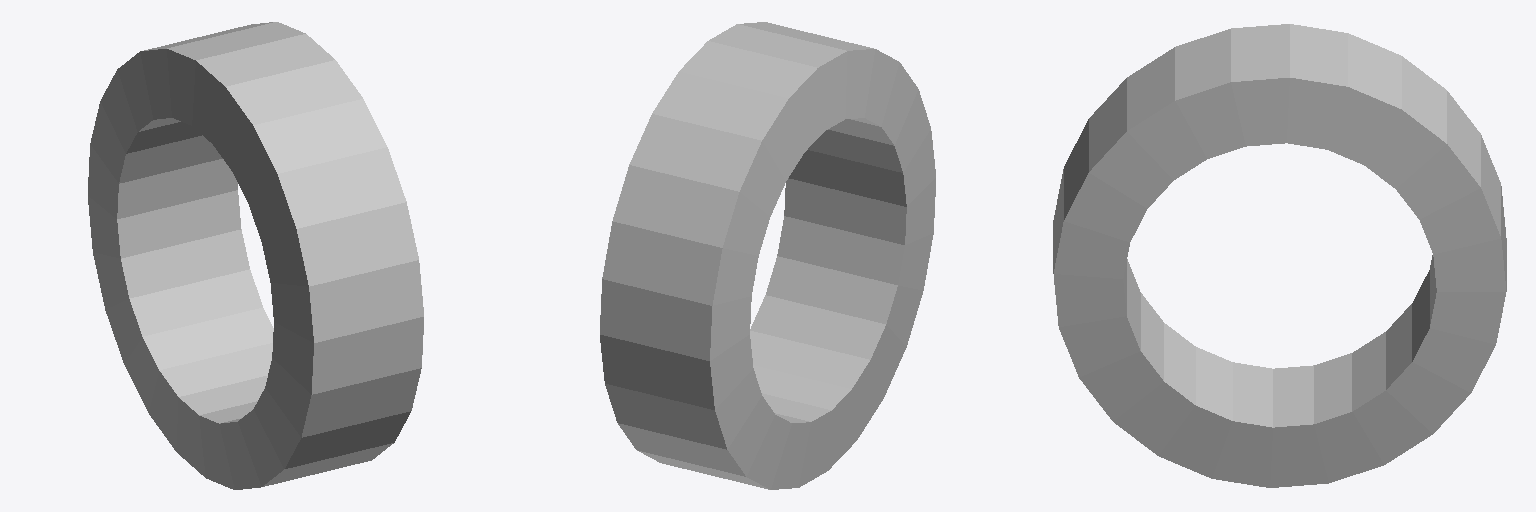
Rendered from original-64.obj.
The picture shows the model from 3 angles: view 1: azimuth 30°, elevation 25°; view 2: azimuth 150°, elevation 25°; view 3: azimuth 270°, elevation 25°; orthographic projection.
Parts seen in each view (by area): view 1: __3_2/__3_1_2/mesh66/mesh66-geometry#mesh66-geometry; view 2: __3_2/__3_1_2/mesh66/mesh66-geometry#mesh66-geometry; view 3: __3_2/__3_1_2/mesh66/mesh66-geometry#mesh66-geometry.
Boxes of the visible parts, box(x1,y1,x2,y2) form: __3_2/__3_1_2/mesh66/mesh66-geometry#mesh66-geometry: box(88, 22, 423, 489); __3_2/__3_1_2/mesh66/mesh66-geometry#mesh66-geometry: box(600, 22, 935, 489); __3_2/__3_1_2/mesh66/mesh66-geometry#mesh66-geometry: box(1053, 24, 1506, 487).
Bounding box in the file's own units: 0.0466 × 0.1513 × 0.1513.